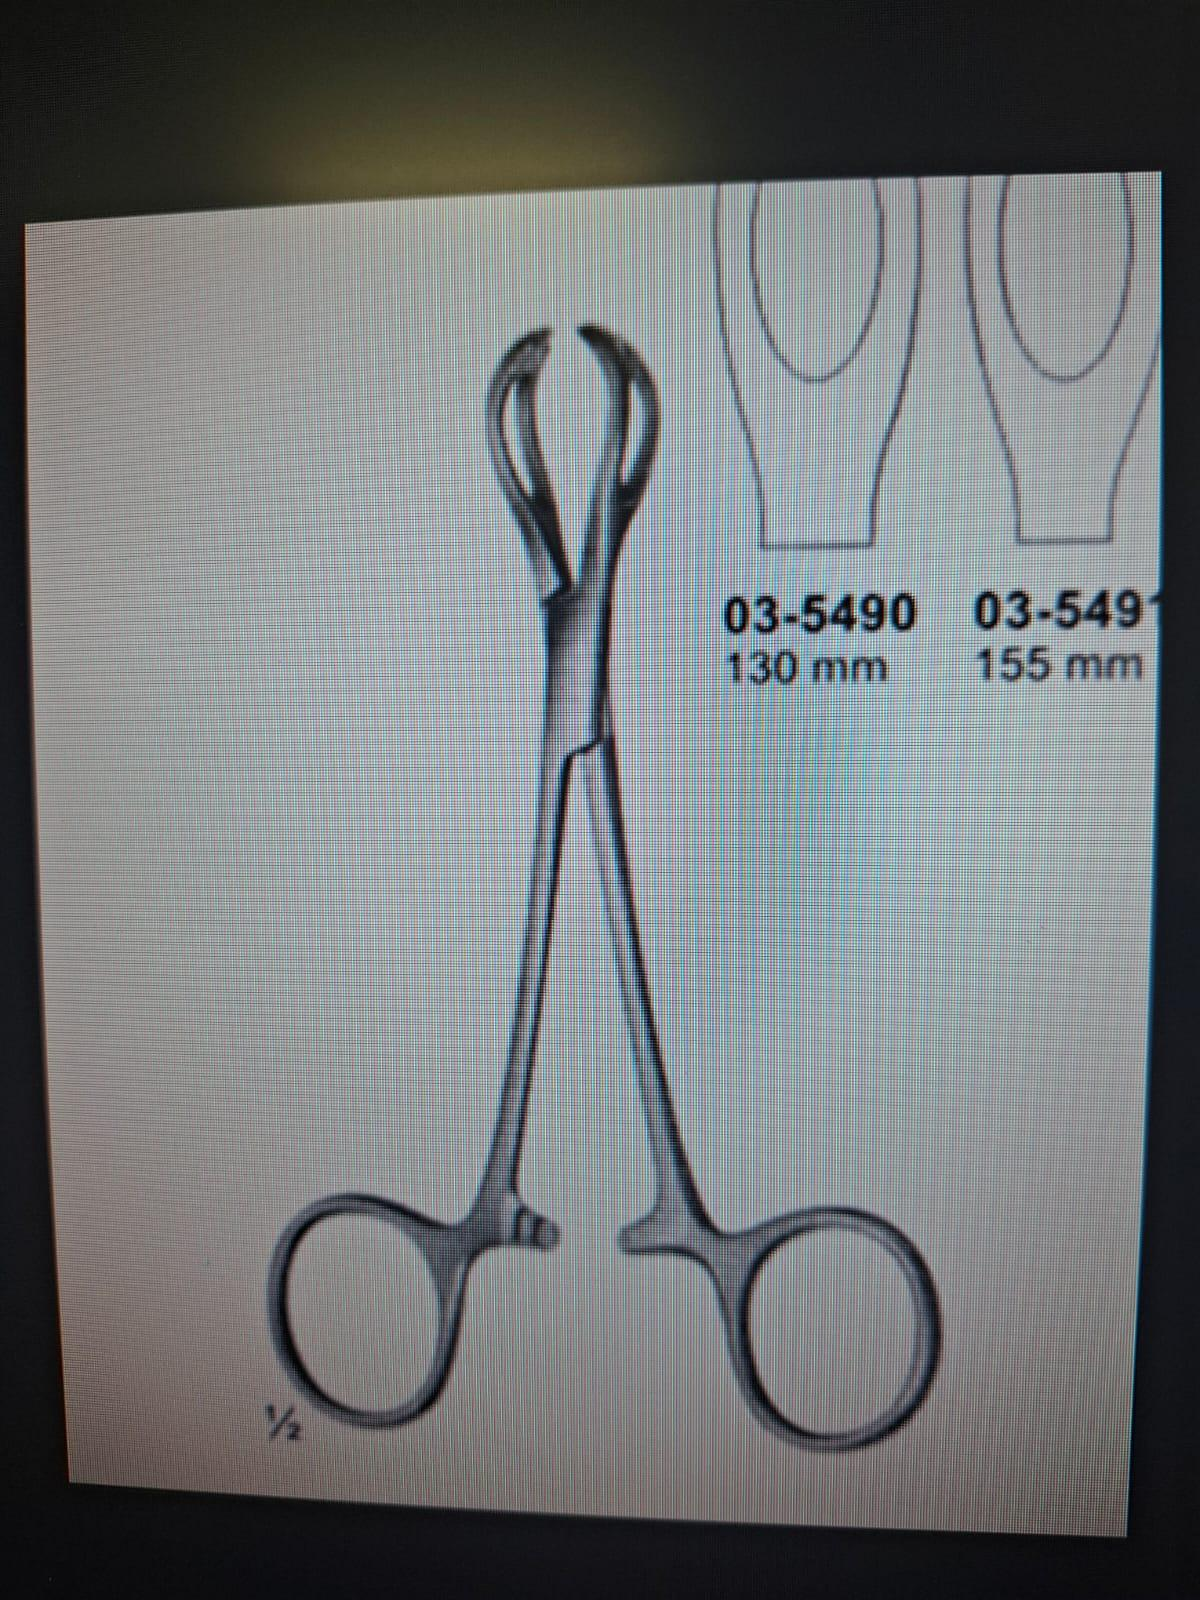Lane Tissue Forceps: (252, 307, 943, 1458)
